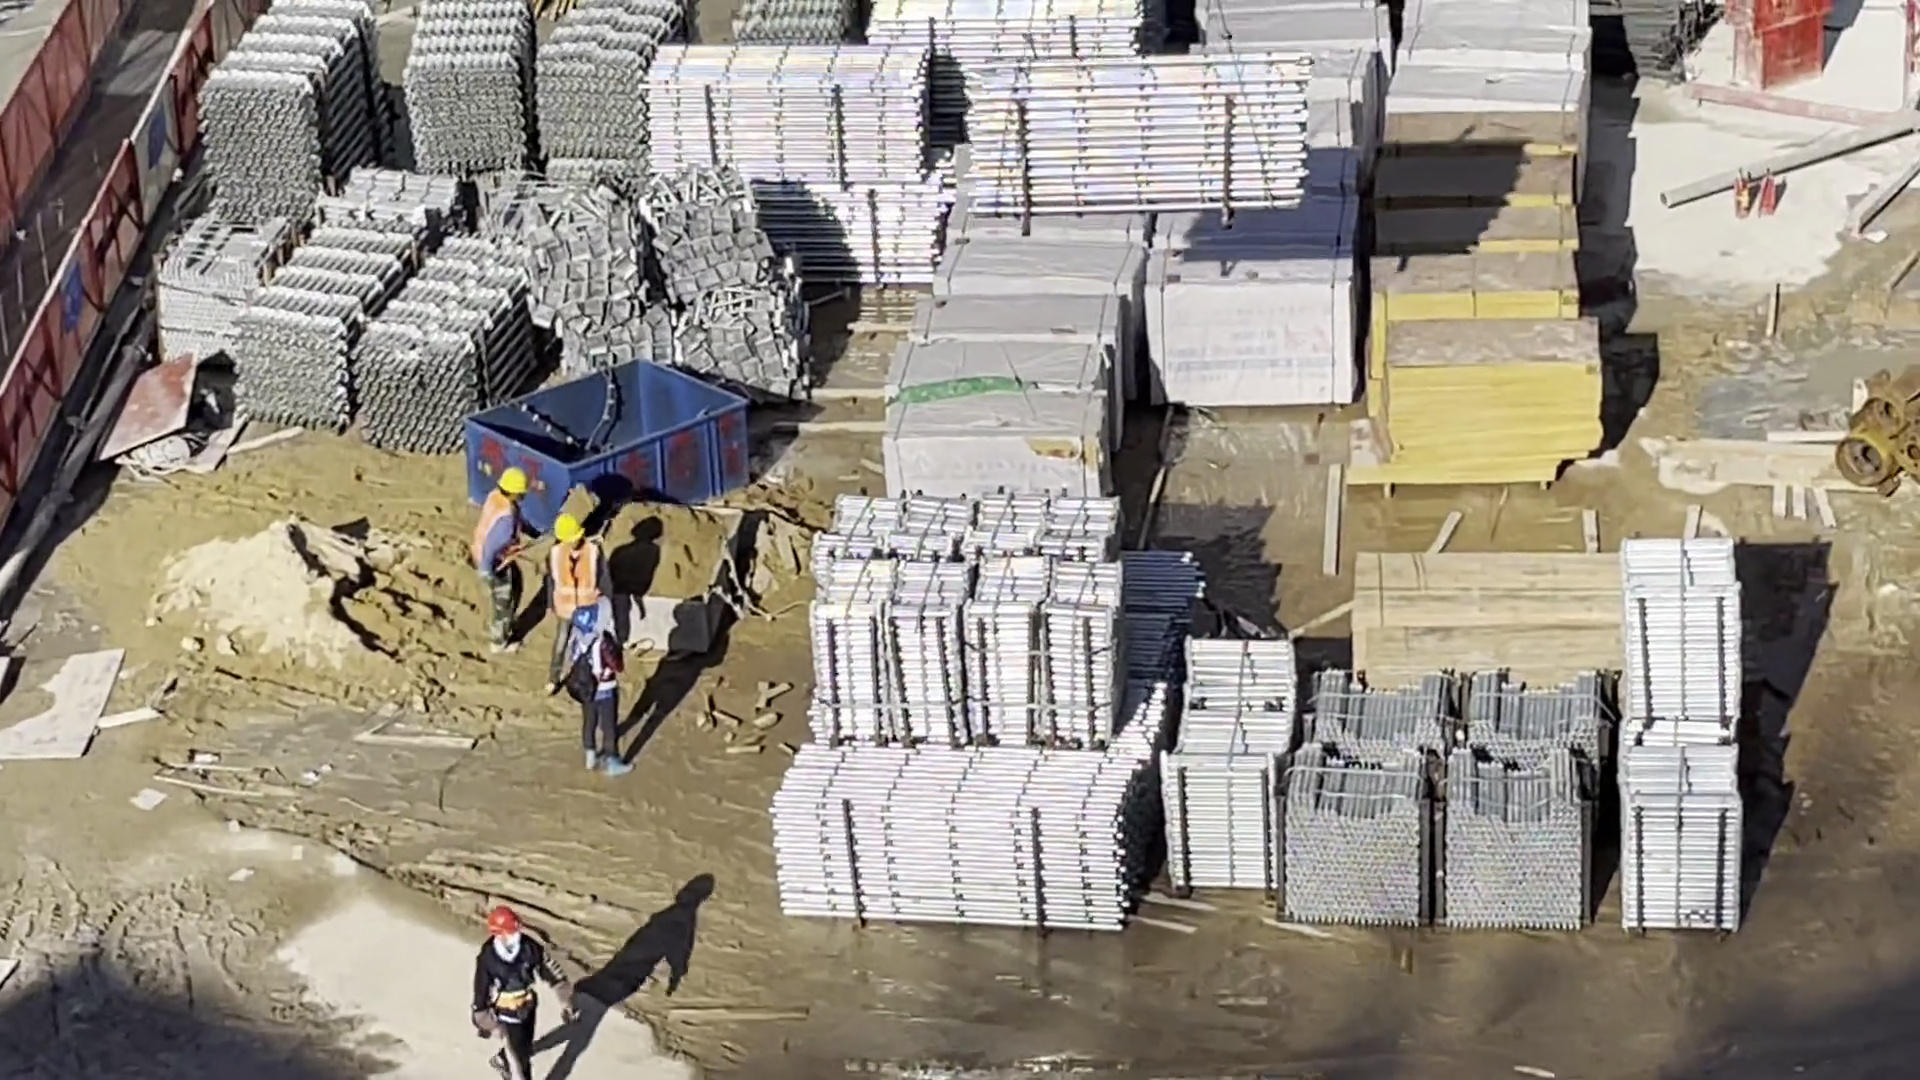board: (1371, 123, 1593, 487), (1347, 560, 1604, 683)
fence: (2, 6, 232, 545)
helmet: (554, 513, 586, 542), (487, 909, 521, 934), (499, 467, 527, 495), (573, 604, 598, 633)
hopper: (468, 361, 745, 511), (608, 503, 743, 660)
person: (474, 910, 559, 1080), (571, 607, 633, 776), (477, 466, 532, 656), (551, 513, 603, 688)
scaffold: (1292, 673, 1611, 926), (813, 497, 1121, 750), (771, 746, 1146, 933), (650, 43, 943, 281), (242, 215, 536, 442), (951, 51, 1309, 212), (1617, 531, 1744, 930), (401, 3, 679, 174), (200, 6, 379, 219), (1165, 634, 1286, 892)
slogan: (58, 266, 86, 330)
vest: (551, 549, 601, 623), (477, 492, 520, 557), (575, 634, 616, 699)
